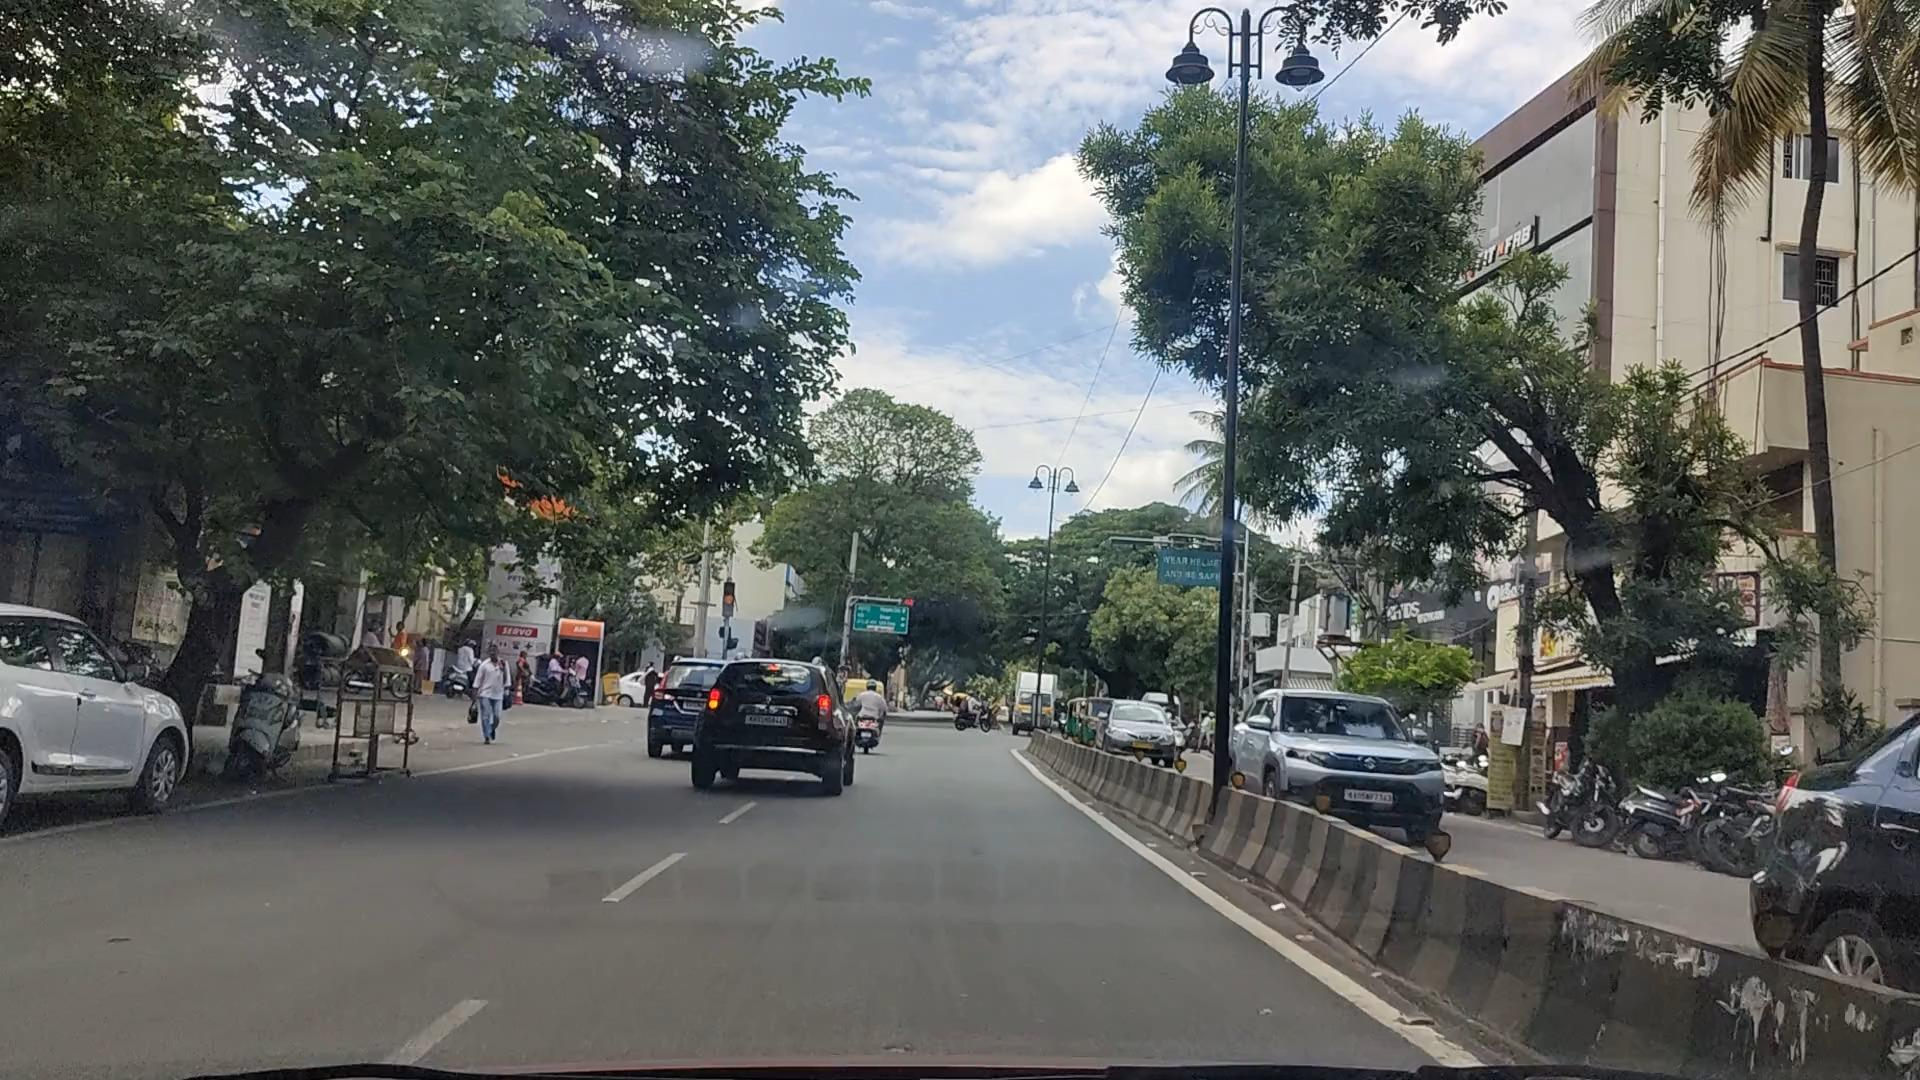LMV: (698, 646, 856, 796)
